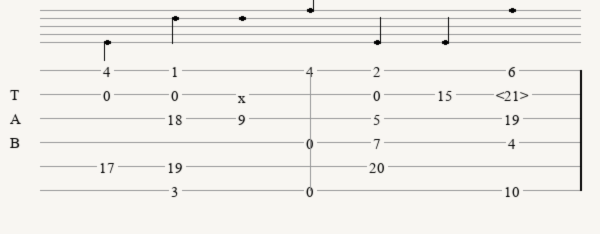0: (103, 87, 115, 101), (171, 87, 183, 101), (306, 135, 318, 149), (306, 183, 318, 197), (373, 87, 385, 101)
1: (171, 63, 183, 77)
10: (504, 183, 524, 197)
15: (437, 87, 457, 101)
17: (99, 159, 119, 173)
18: (167, 111, 187, 125)
19: (167, 159, 187, 173), (504, 111, 524, 125)
2: (373, 63, 385, 77)
20: (369, 159, 389, 173)
3: (171, 183, 183, 197)
4: (103, 63, 115, 77), (306, 63, 318, 77), (508, 135, 520, 149)
5: (373, 111, 385, 125)
6: (508, 63, 520, 77)
7: (373, 135, 385, 149)
9: (238, 111, 250, 125)
harmonic: (496, 87, 533, 101)
x: (238, 89, 250, 100)
